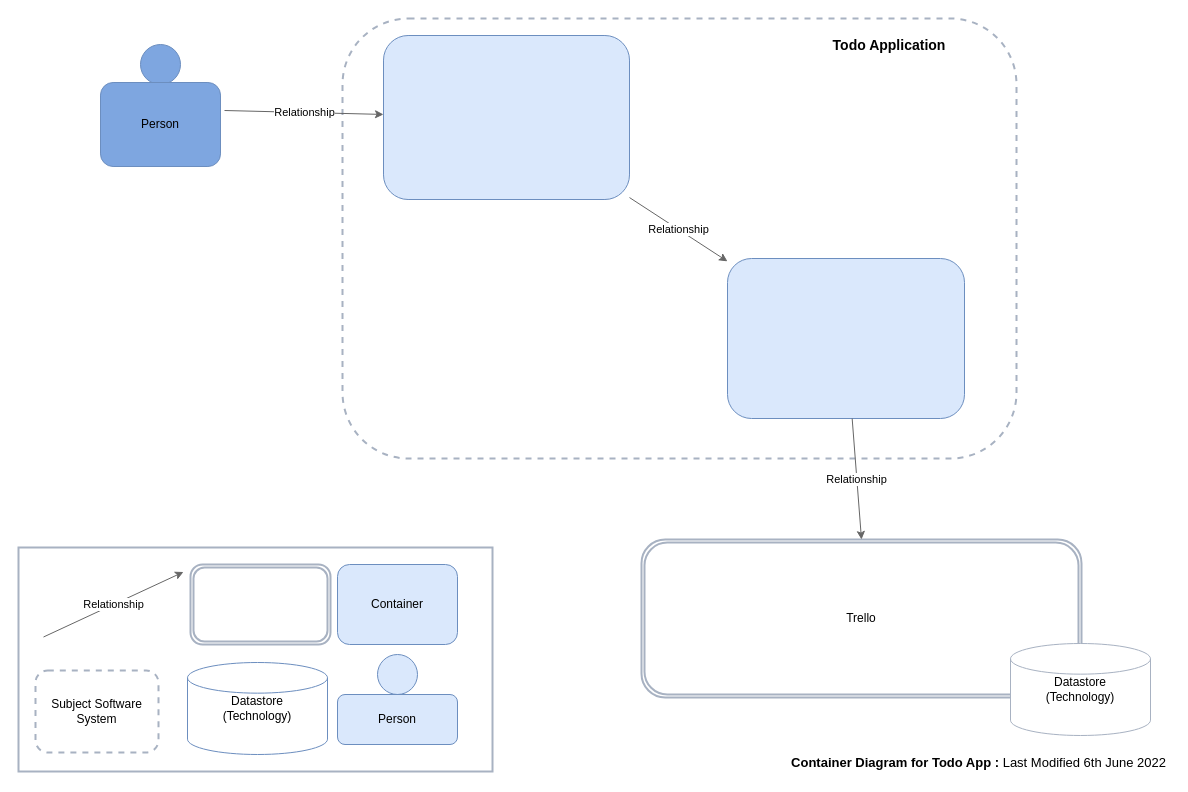
This 1188x792 diagram has some shape labels left out. Each missing label, with the box of its shape:
External Software System: (189, 563, 331, 645)
Flask Application: (726, 258, 964, 418)
Web Server [GUNICORN]: (382, 34, 630, 200)
